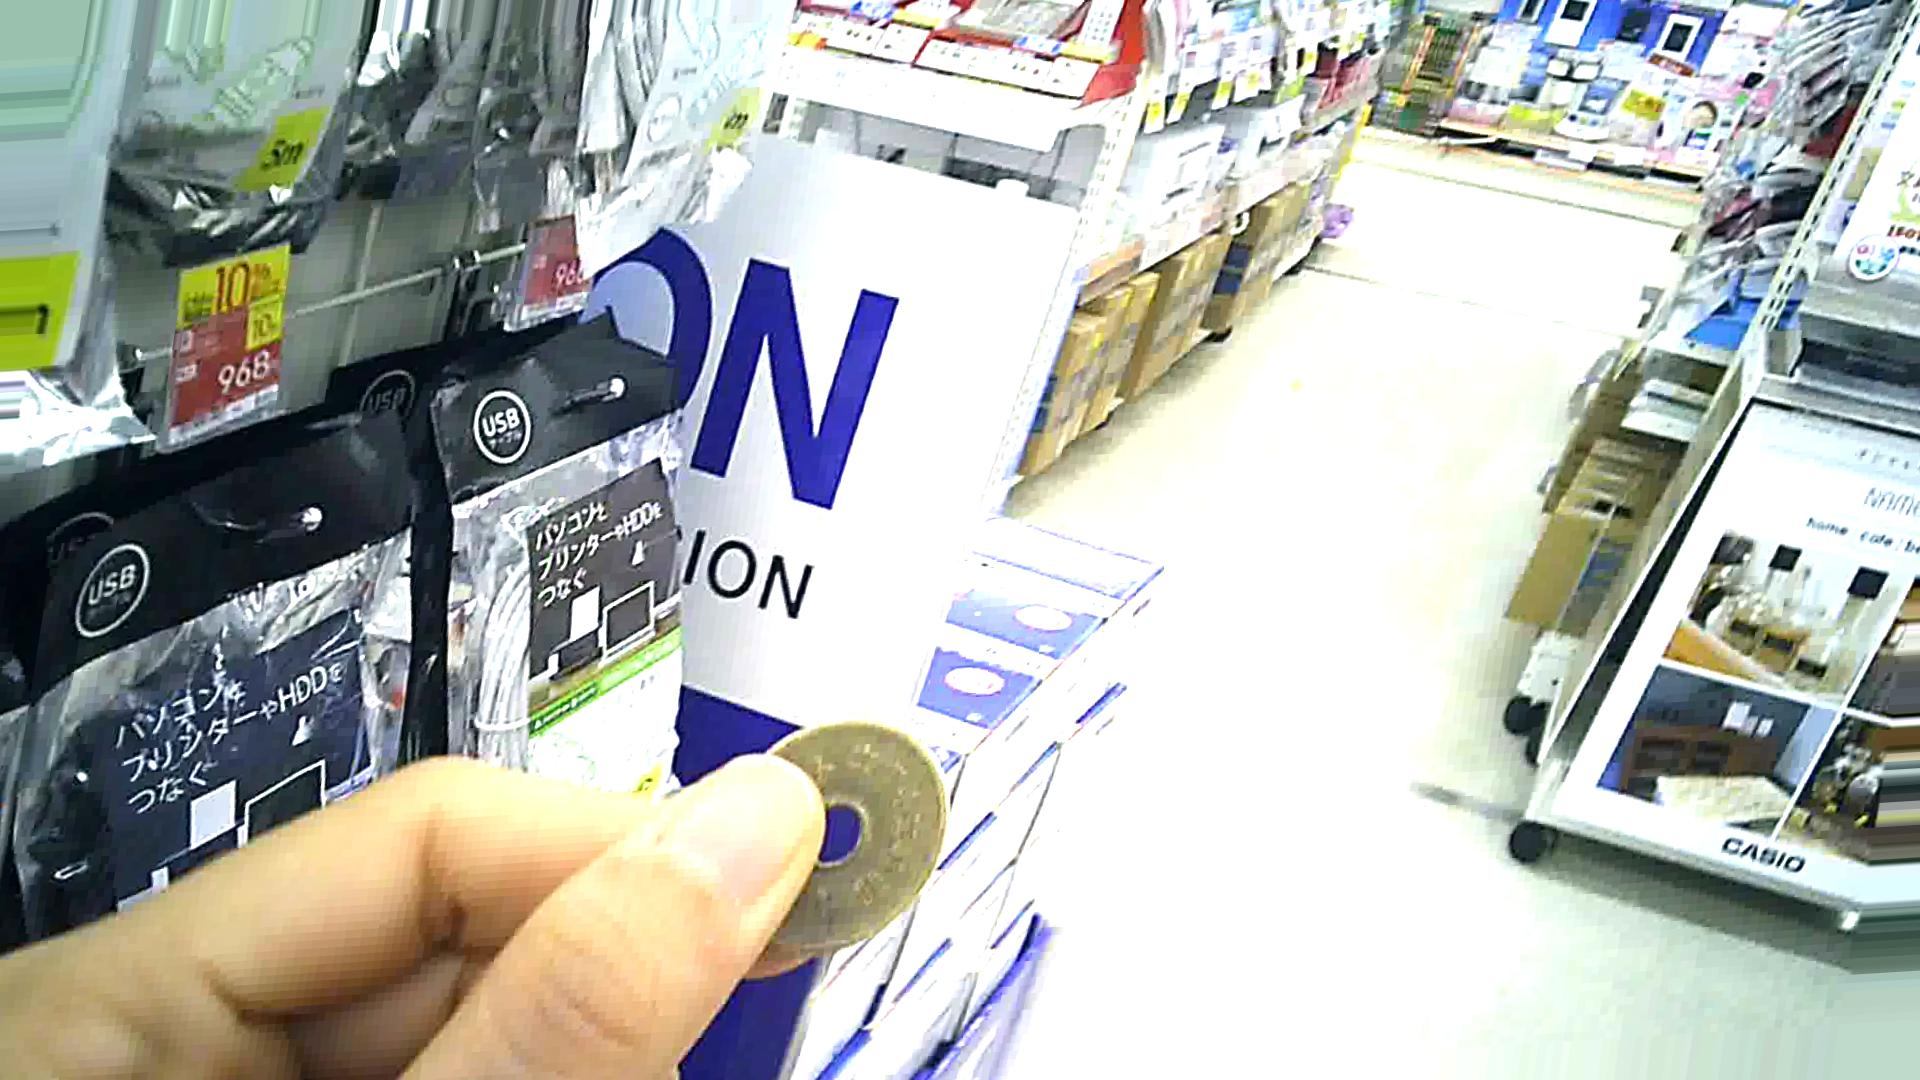5 Yen: (724, 709, 945, 952)
